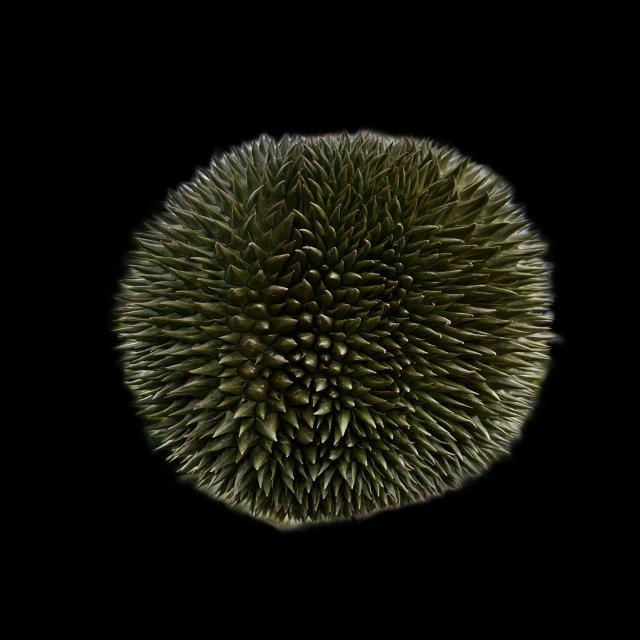immature: (107, 125, 555, 527)
